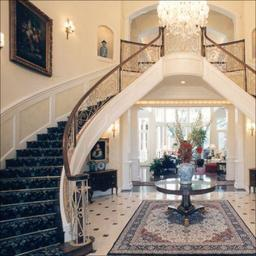Escaleras: (2, 43, 145, 255)
